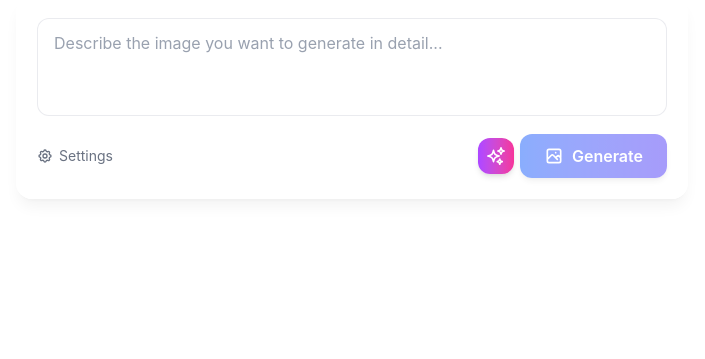
Test: ImageGenerator › shows error message on failure
The image size is (705, 359).
Type "a cat" into the text box with placeholder "Describe the image you want to generate in detail...".
click(352, 67); type("a cat")  # box x1=37 y1=18 x2=667 y2=116
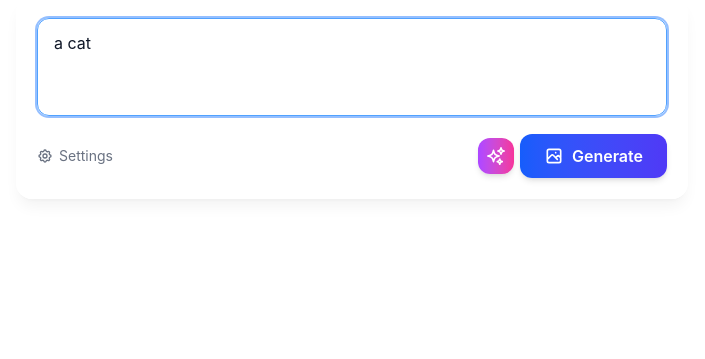
Click the button "Generate".
click(594, 156)  # box x1=520 y1=134 x2=667 y2=178
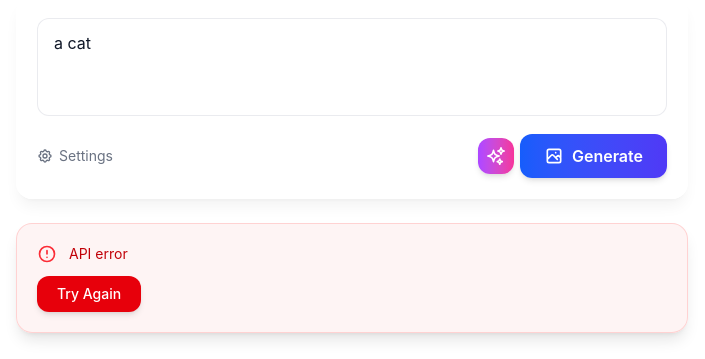
Expected: the text "API error" is shown, x1=69 y1=244 x2=128 y2=264
Expected: the button "Try Again" is shown, x1=37 y1=276 x2=141 y2=312
